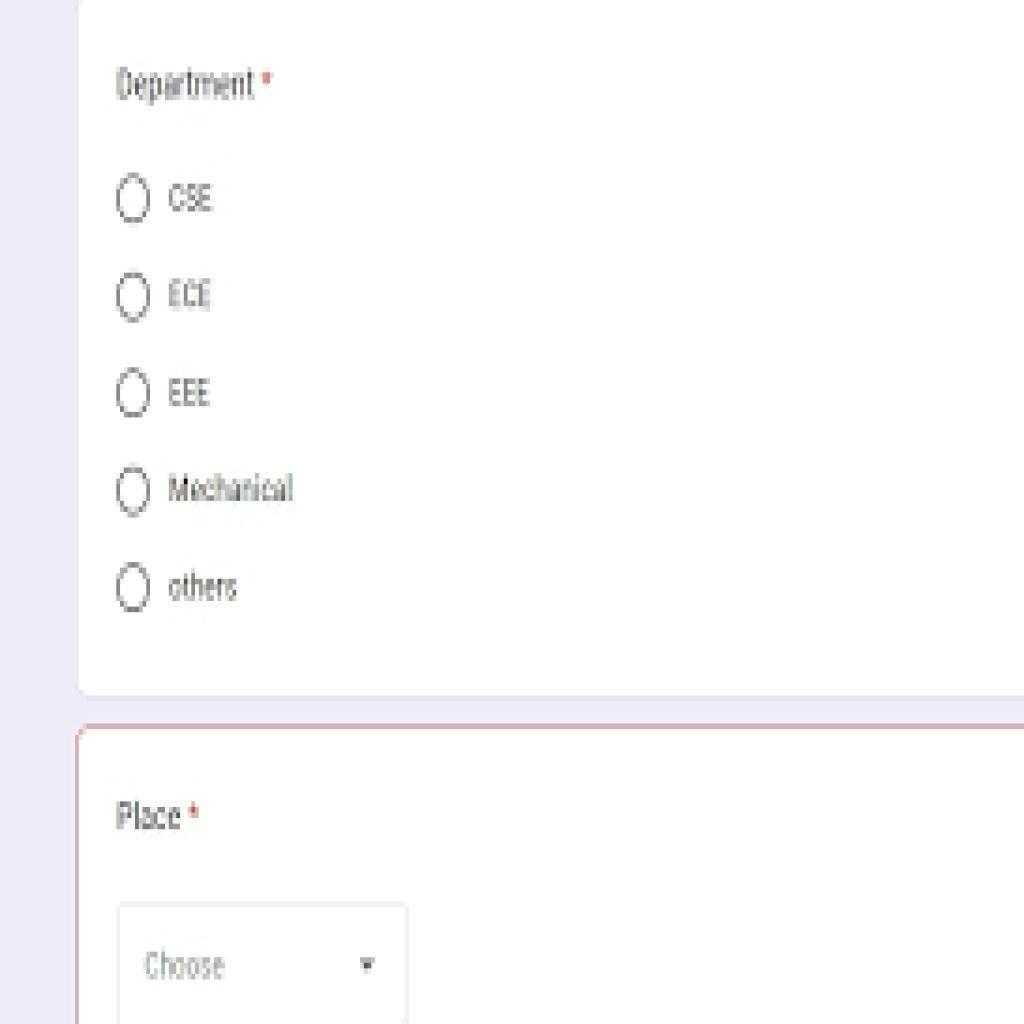dropdown: (118, 905, 408, 1024)
label: (114, 57, 277, 111), (167, 471, 296, 504), (111, 796, 204, 834), (168, 569, 239, 601), (164, 372, 216, 413), (165, 178, 217, 218), (164, 274, 216, 311)
radio: (114, 170, 153, 224), (113, 561, 152, 614), (114, 271, 152, 324), (115, 366, 151, 420), (116, 466, 151, 518)
